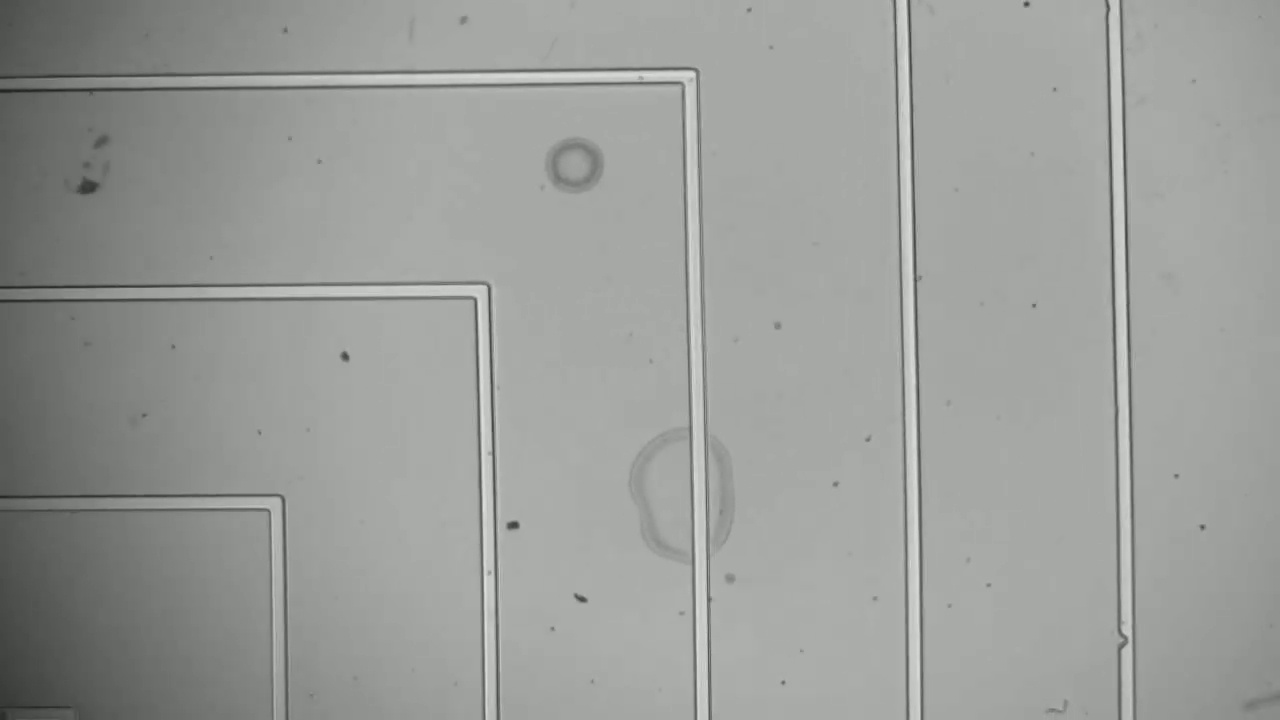edge_bite: (1110, 626, 1145, 658)
